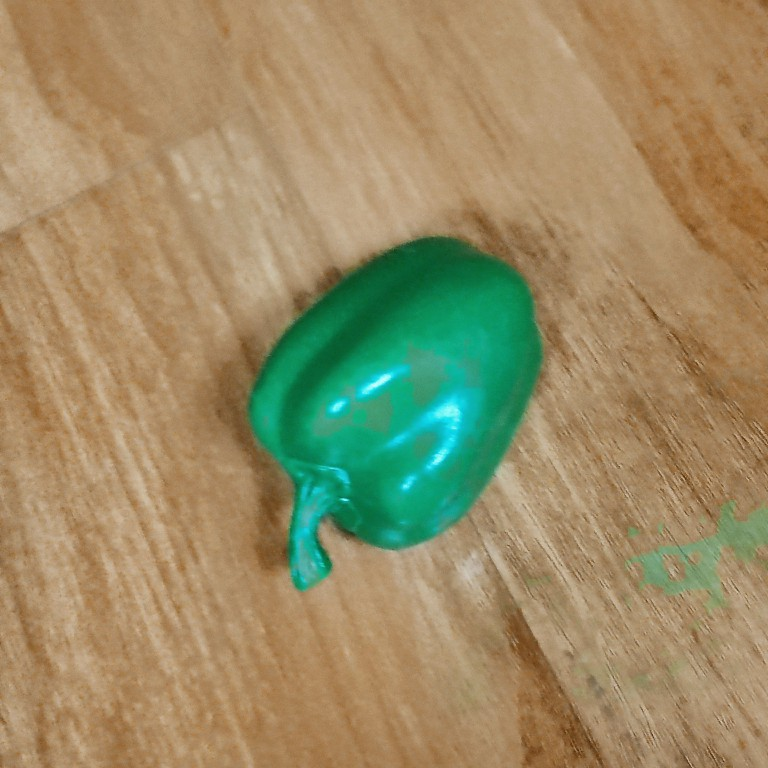fruit_pepper: (238, 228, 548, 599)
